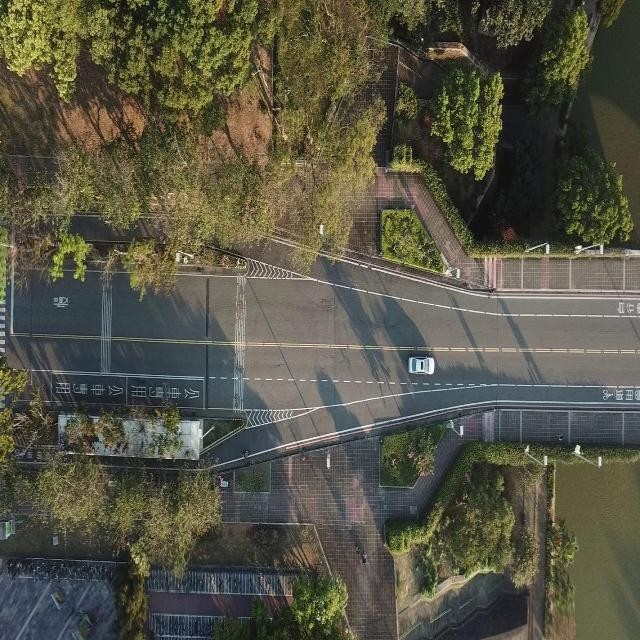car: (407, 354, 435, 374)
